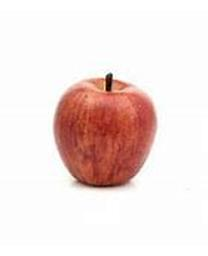apple: (50, 72, 158, 186)
